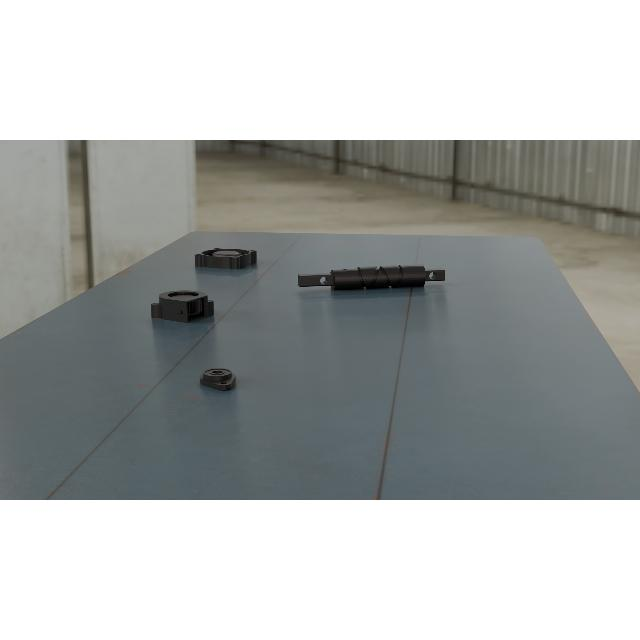Pieza1: (297, 262, 447, 294)
Pieza2: (193, 362, 243, 392)
Pieza3: (148, 288, 216, 324)
Pieza4: (192, 248, 260, 270)
